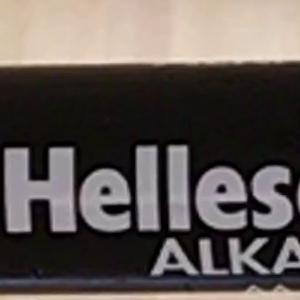ALK: (141, 228, 262, 286)
